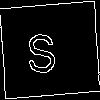S: (25, 24, 58, 75)
